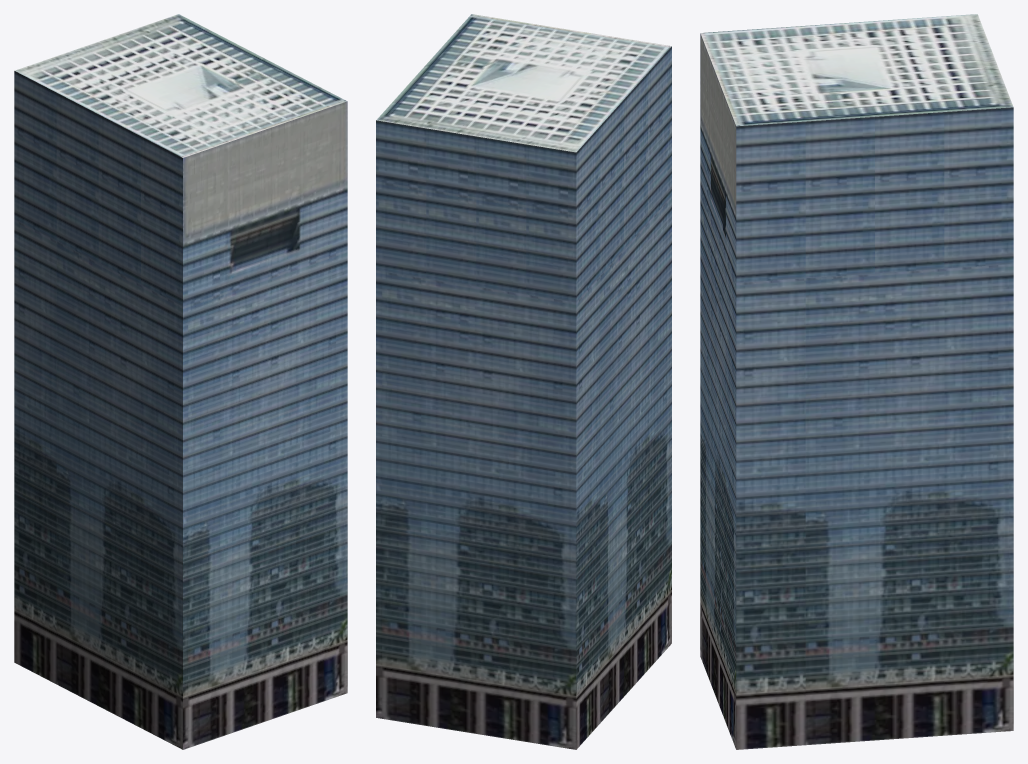
The model's file is fuchun_eastern_building_vanke_5a3511e4.glb.
The picture shows the model from 3 angles, left to right: view 1: azimuth 30°, elevation 25°; view 2: azimuth 150°, elevation 25°; view 3: azimuth 270°, elevation 25°; orthographic projection. The views are drawn at different scales.
Parts seen in each view (by area): view 1: fuchun_eastern_building_vanke_5a3511e4; view 2: fuchun_eastern_building_vanke_5a3511e4; view 3: fuchun_eastern_building_vanke_5a3511e4.
Part boxes in pixels (box(x1,y1,x2,y2)): fuchun_eastern_building_vanke_5a3511e4: box(14, 14, 347, 749); fuchun_eastern_building_vanke_5a3511e4: box(376, 14, 671, 749); fuchun_eastern_building_vanke_5a3511e4: box(700, 14, 1013, 749).
Size of the model in its own units: 46.35 by 120 by 54.62.
Materials: 1 (1 with a texture image).
